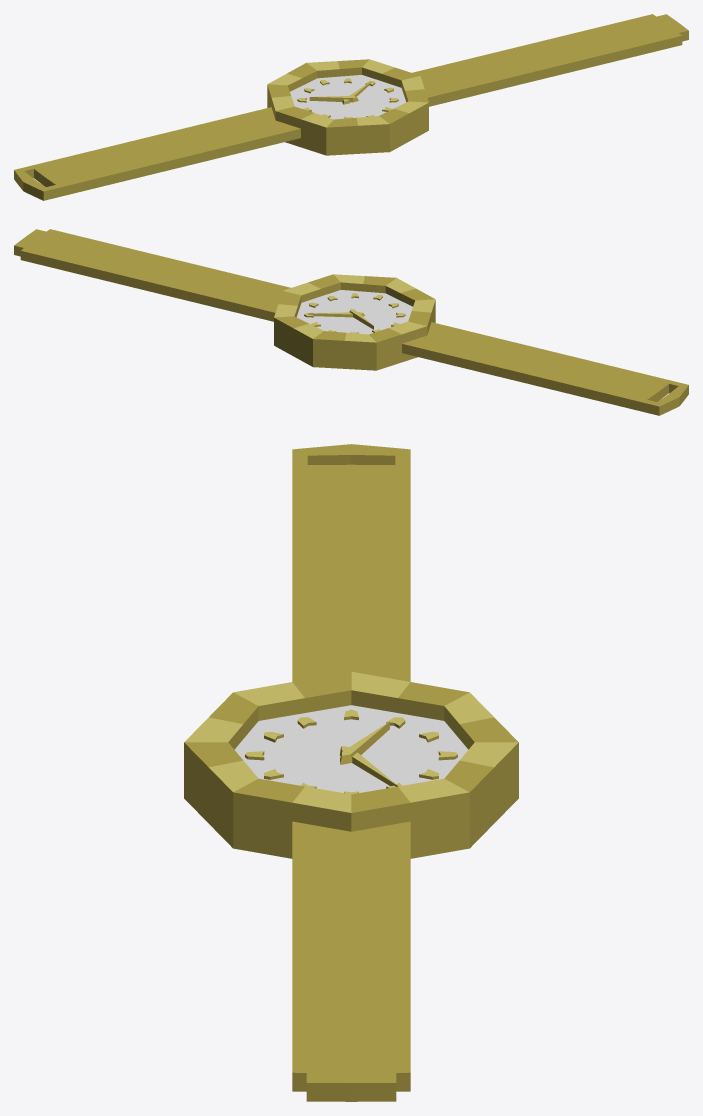
Rendered from watch.glb.
3 renders of one model, top to bottom at view 1: azimuth 30°, elevation 25°; view 2: azimuth 150°, elevation 25°; view 3: azimuth 270°, elevation 25°, orthographic. The views are drawn at different scales.
Parts seen in each view (by area): view 1: Circle; view 2: Circle; view 3: Circle.
Boxes of the visible parts, x1,y1,x2,y2 form: Circle: [14, 14, 688, 200]; Circle: [14, 229, 688, 415]; Circle: [184, 444, 518, 1101].
Bounding box in the file's own units: 9.04 × 0.3704 × 2.
